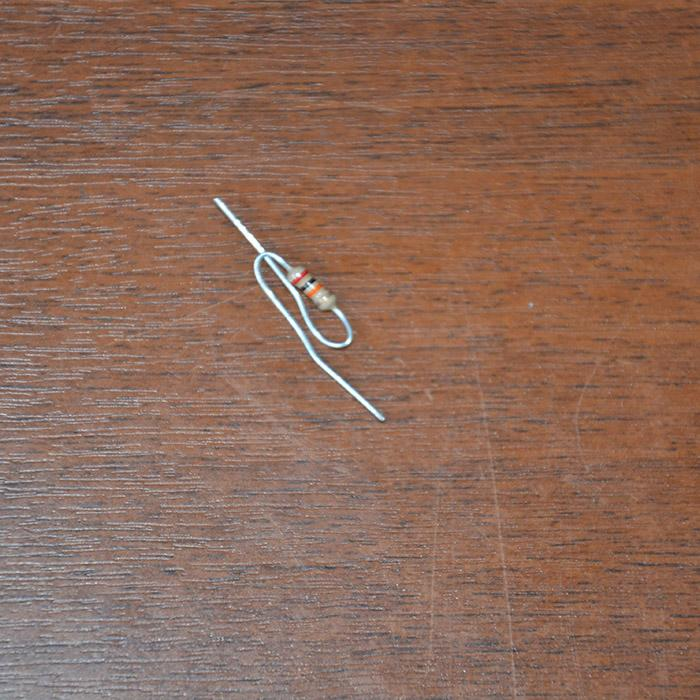resistor: (288, 264, 336, 312)
